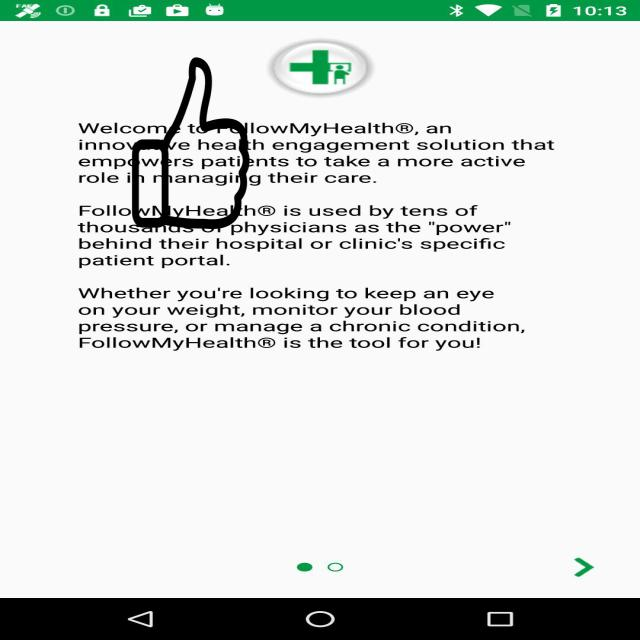privacy zuckering: (130, 57, 252, 229)
